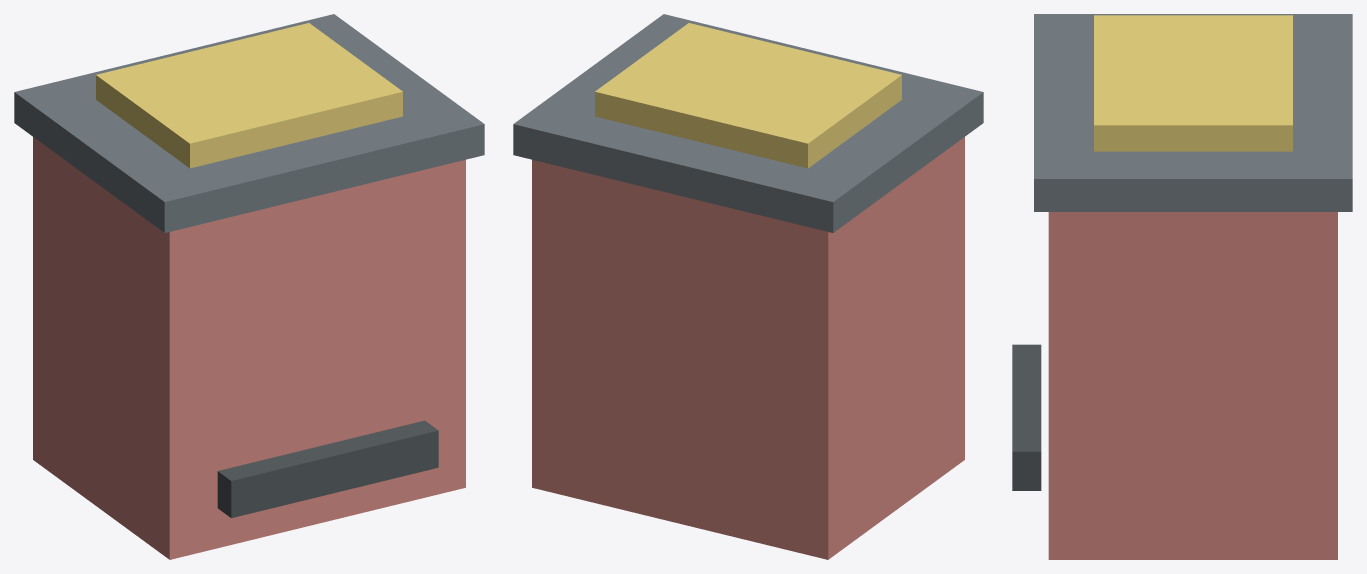
File: waste_bin_lod1.glb
3 views of the same model, side by side, from view 1: azimuth 30°, elevation 25°; view 2: azimuth 150°, elevation 25°; view 3: azimuth 270°, elevation 25° (orthographic). The views are drawn at different scales.
Visible parts, largest first — view 1: waste-node-0, waste-node-1, waste-node-2, waste-node-3; view 2: waste-node-0, waste-node-1, waste-node-2; view 3: waste-node-0, waste-node-1, waste-node-2, waste-node-3.
Boxes of the visible parts, x1=… form: waste-node-0: x1=33, y1=137, x2=465, y2=559; waste-node-1: x1=14, y1=14, x2=484, y2=232; waste-node-2: x1=96, y1=23, x2=402, y2=168; waste-node-3: x1=217, y1=420, x2=438, y2=517; waste-node-0: x1=532, y1=137, x2=964, y2=559; waste-node-1: x1=513, y1=14, x2=983, y2=232; waste-node-2: x1=595, y1=23, x2=901, y2=168; waste-node-0: x1=1048, y1=212, x2=1337, y2=559; waste-node-1: x1=1034, y1=14, x2=1352, y2=211; waste-node-2: x1=1094, y1=15, x2=1292, y2=151; waste-node-3: x1=1012, y1=344, x2=1041, y2=490.
Bounding box in the file's own units: 1.08 × 1.26 × 0.94.
